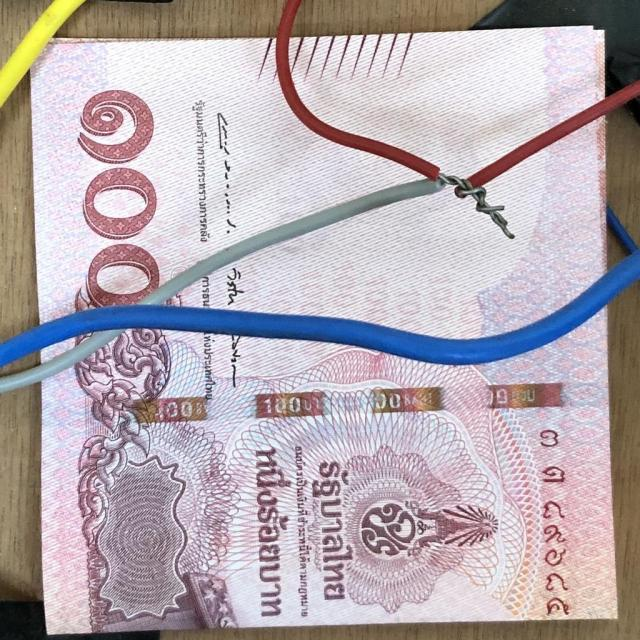THAI100: (41, 310, 617, 633), (31, 38, 422, 321), (165, 118, 607, 338), (290, 28, 604, 175)
